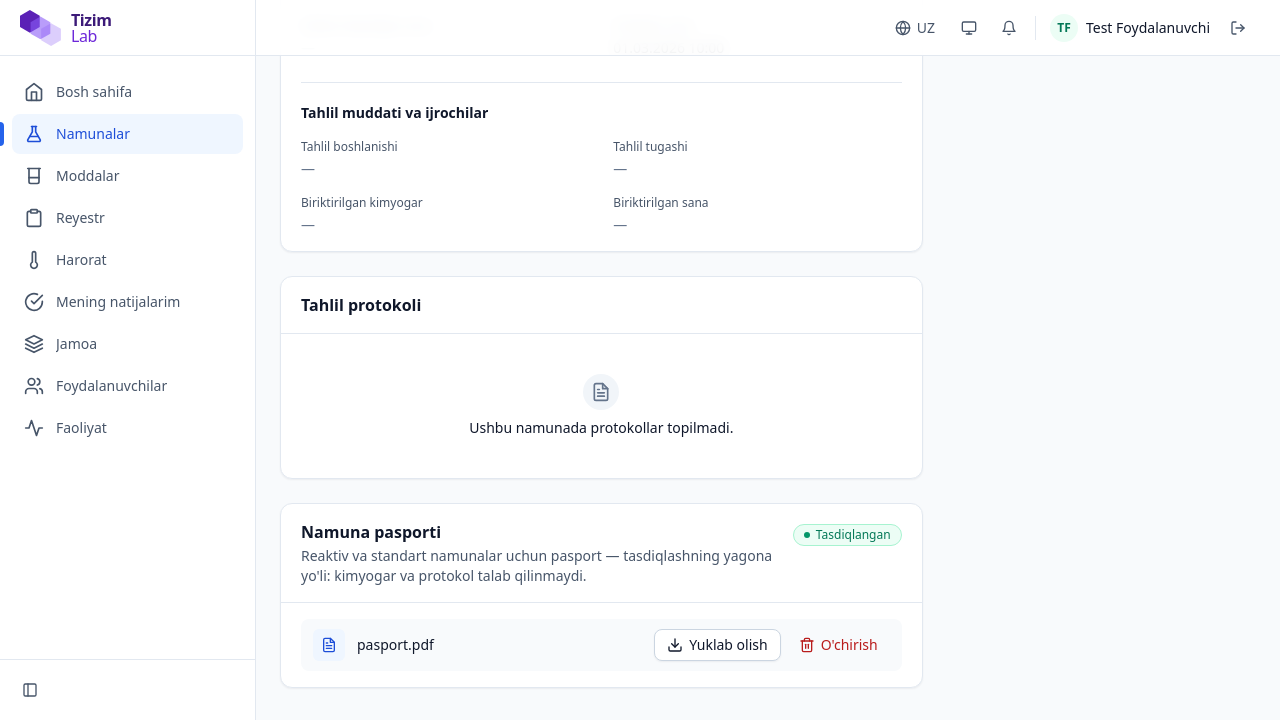
PassportSection: yuklash xatolari, o‘chirish, yuklab olish › lab_head tasdiqlangan pasportni o‘chirishda ogohlantirish ko‘radi
(page scrolled)
Click the button "O'chirish": click(838, 645) x1=787 y1=629 x2=890 y2=661
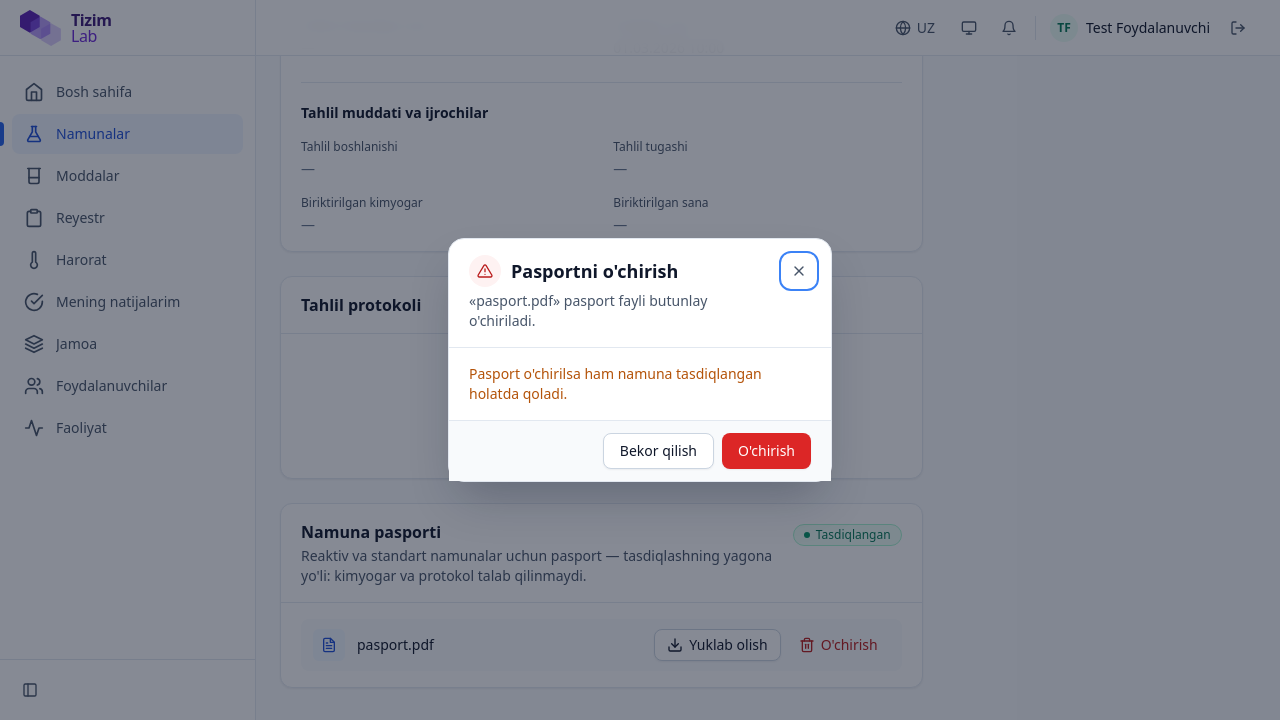
Expected: the text "Pasport o'chirilsa ham namuna tasdiqlangan holatda qoladi." is shown, x1=469 y1=364 x2=811 y2=404
